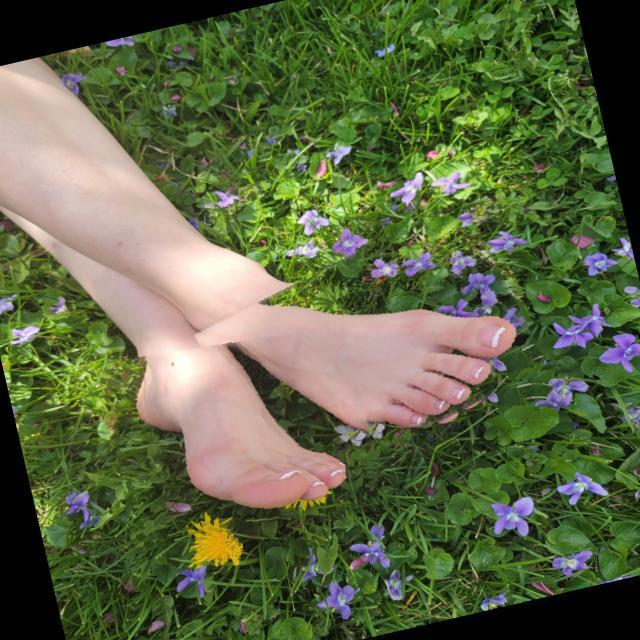Barefoots: (217, 244, 522, 441), (120, 314, 355, 529)
